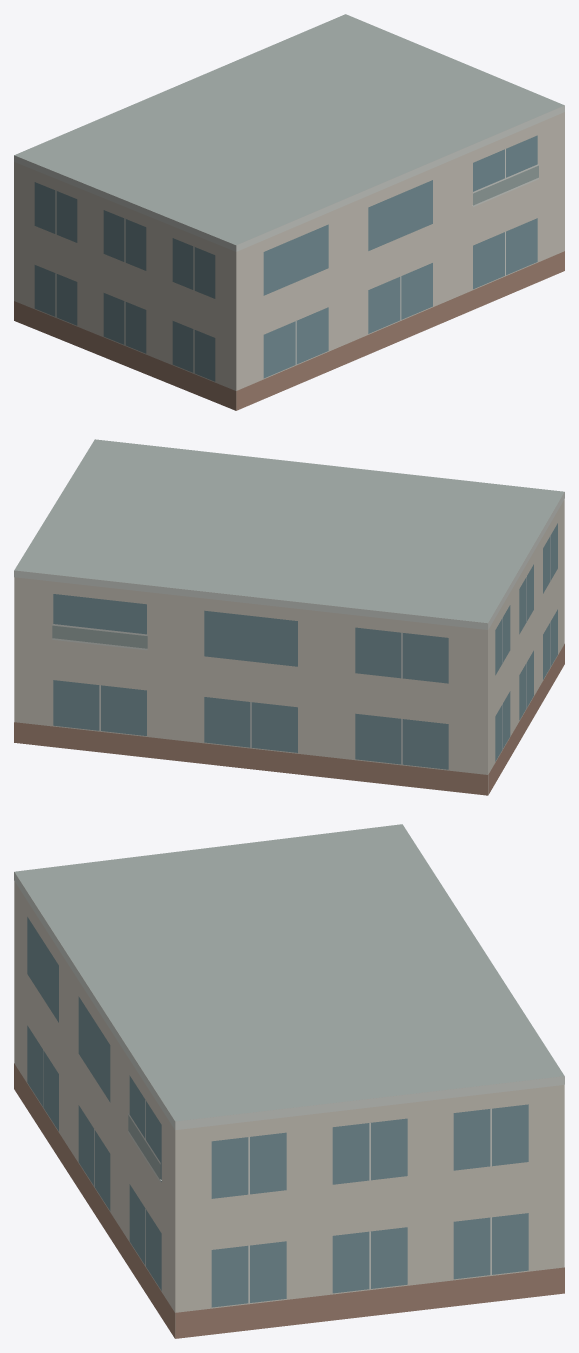
File: survey-upis-32941363.glb
3 renders of one model, top to bottom at view 1: azimuth 30°, elevation 25°; view 2: azimuth 150°, elevation 25°; view 3: azimuth 270°, elevation 25°, orthographic. The views are drawn at different scales.
Visible parts, largest first — view 1: survey-upis-32941363.tmp; view 2: survey-upis-32941363.tmp; view 3: survey-upis-32941363.tmp.
Boxes of the visible parts, x1=… form: survey-upis-32941363.tmp: x1=14, y1=14, x2=564, y2=410; survey-upis-32941363.tmp: x1=14, y1=439, x2=564, y2=795; survey-upis-32941363.tmp: x1=14, y1=824, x2=564, y2=1338.
Bounding box in the file's own units: 17.92 × 6.1 × 14.02.
